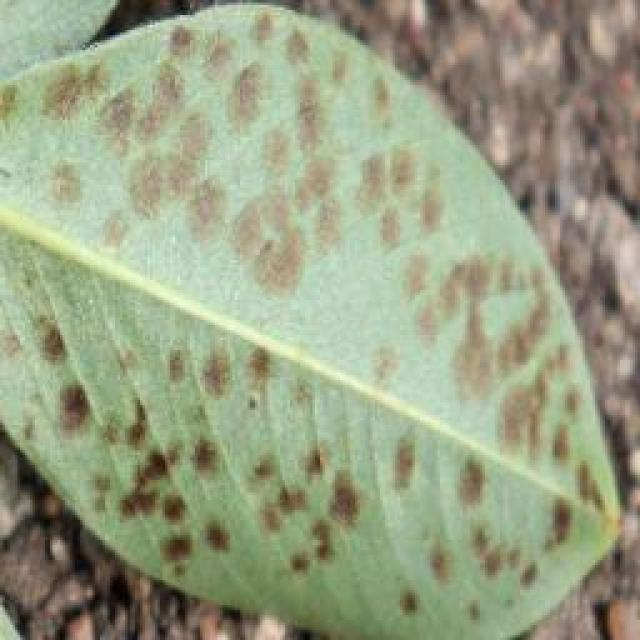Whitefly: (0, 8, 608, 614)
